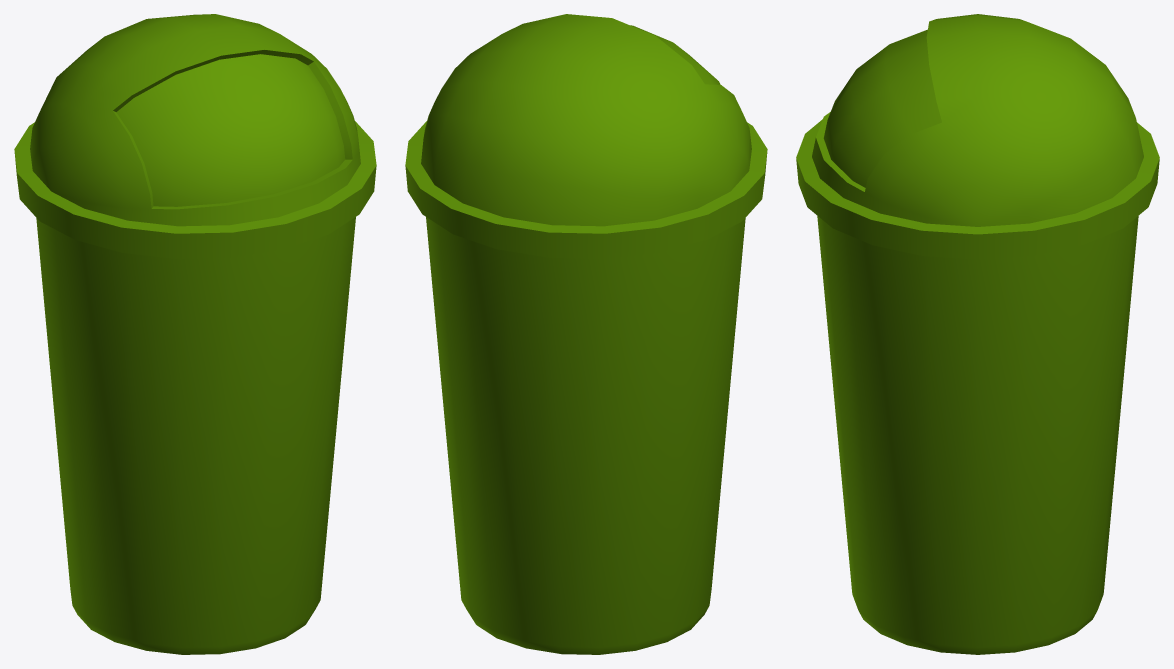
File: Poubelle.FBX
3 views of the same model, side by side, from view 1: azimuth 30°, elevation 25°; view 2: azimuth 150°, elevation 25°; view 3: azimuth 270°, elevation 25° (orthographic).
Visible parts, largest first — view 1: poubelle; view 2: poubelle; view 3: poubelle.
Boxes of the visible parts, x1=… form: poubelle: x1=14, y1=14, x2=376, y2=654; poubelle: x1=405, y1=14, x2=767, y2=654; poubelle: x1=796, y1=14, x2=1159, y2=654.
Size of the model in its own units: 0.4726 by 0.4726 by 0.8259.
